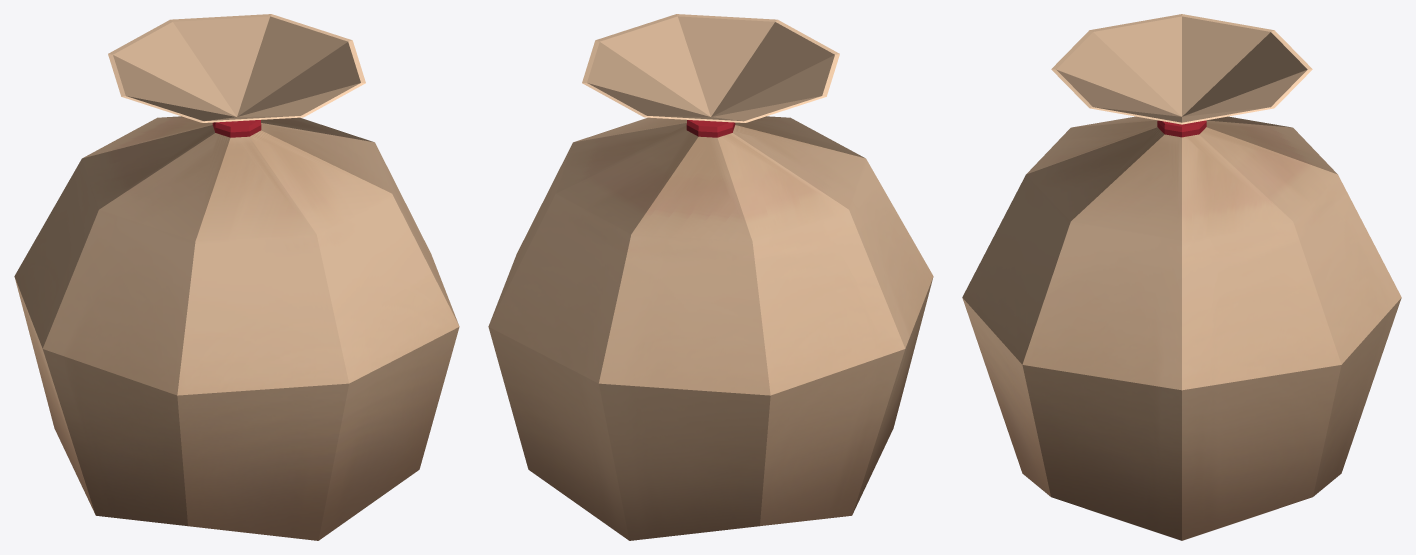
File: bag.fbx
The picture shows the model from 3 angles, left to right: view 1: azimuth 30°, elevation 25°; view 2: azimuth 150°, elevation 25°; view 3: azimuth 270°, elevation 25°; orthographic projection. The views are drawn at different scales.
Visible parts, largest first — view 1: Bag_model; view 2: Bag_model; view 3: Bag_model.
Part boxes in pixels (x1,y1,x2,y2): Bag_model: [14, 14, 459, 540]; Bag_model: [488, 14, 933, 540]; Bag_model: [962, 14, 1401, 540].
Bounding box in the file's own units: 207 × 226 × 207.
Materials: 1 (1 with a texture image).
